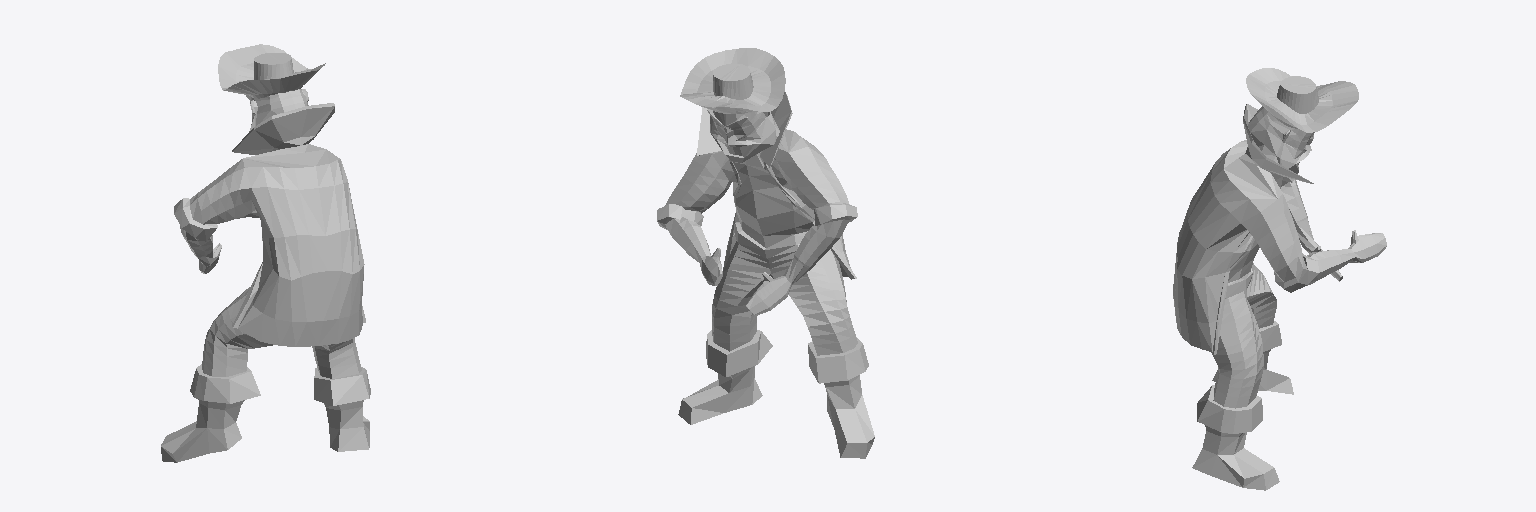
The model's file is pirata_000205.obj.
3 renders of one model, left to right at view 1: azimuth 30°, elevation 25°; view 2: azimuth 150°, elevation 25°; view 3: azimuth 270°, elevation 25°, orthographic.
Parts seen in each view (by area): view 1: Pirata_PirataH; view 2: Pirata_PirataH; view 3: Pirata_PirataH.
Part boxes in pixels (left/top/right/bottom): Pirata_PirataH: left=161, top=44, right=370, bottom=462; Pirata_PirataH: left=657, top=48, right=874, bottom=458; Pirata_PirataH: left=1173, top=68, right=1386, bottom=490.
Size of the model in its own units: 4.95 by 9.15 by 4.72.